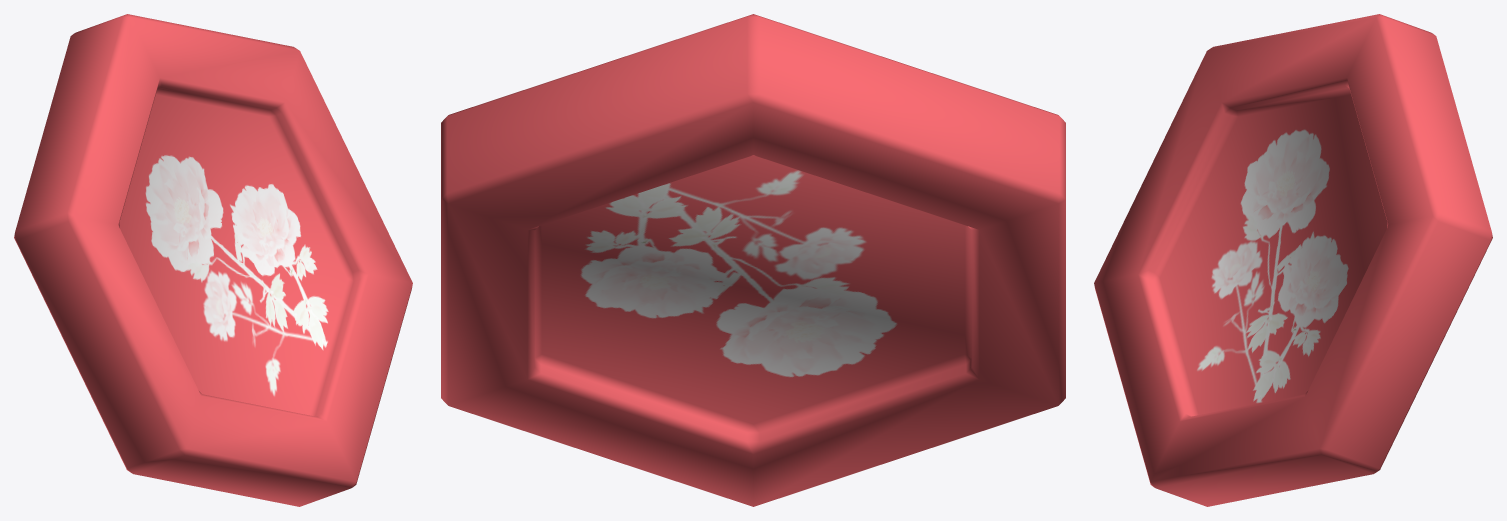
The model's file is peony.glb.
3 views of the same model, side by side, from view 1: azimuth 30°, elevation 25°; view 2: azimuth 150°, elevation 25°; view 3: azimuth 270°, elevation 25° (orthographic). The views are drawn at different scales.
Visible parts, largest first — view 1: Cylinder.002; view 2: Cylinder.002; view 3: Cylinder.002.
Part boxes in pixels (x1,y1,x2,y2): Cylinder.002: (14,14,412,506); Cylinder.002: (441,14,1065,506); Cylinder.002: (1094,14,1492,506).
Size of the model in its own units: 1.85 by 1.84 by 1.49.
1 material, 1 textured.
